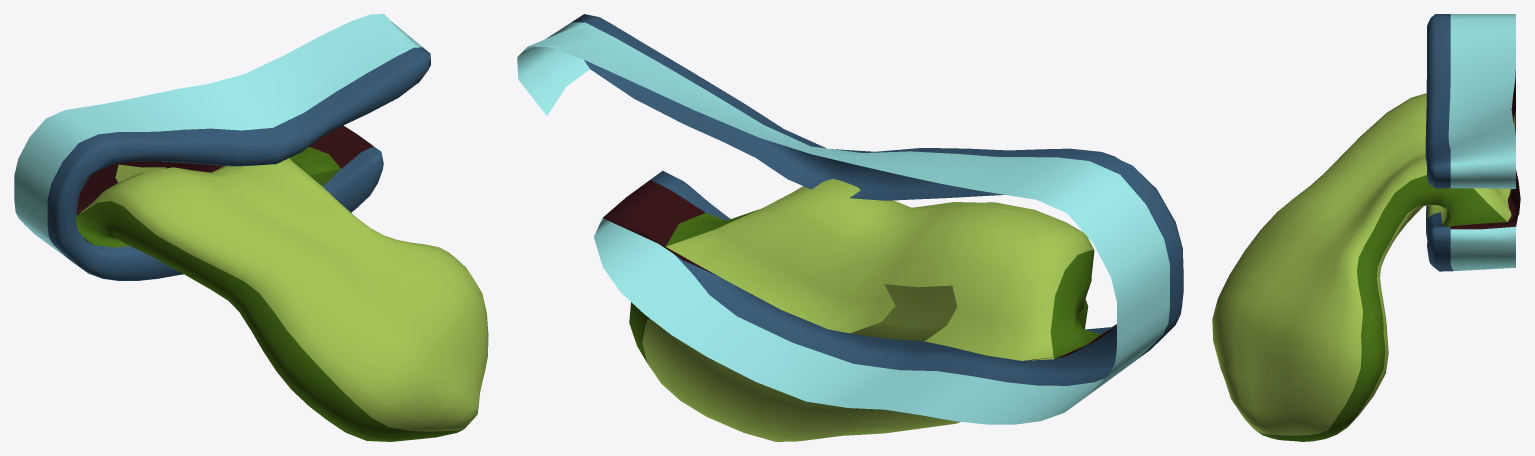
The model's file is greenTongue3.fbx.
3 renders of one model, left to right at view 1: azimuth 30°, elevation 25°; view 2: azimuth 150°, elevation 25°; view 3: azimuth 270°, elevation 25°, orthographic. The views are drawn at different scales.
Parts seen in each view (by area): view 1: pPlane1; view 2: pPlane1; view 3: pPlane1.
Part boxes in pixels (x1,y1,x2,y2): pPlane1: [14, 14, 488, 441]; pPlane1: [517, 14, 1183, 441]; pPlane1: [1212, 14, 1520, 441].
Size of the model in its own units: 2.45 by 1.92 by 1.73.
